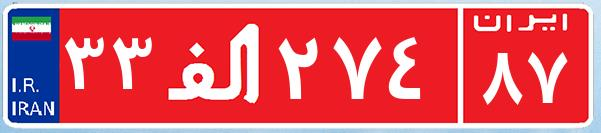2: (273, 28, 330, 110)
3: (57, 26, 110, 107), (110, 28, 158, 105)
4: (385, 28, 445, 110)
7: (330, 28, 385, 110), (525, 38, 570, 115)
8: (475, 38, 525, 113)
الف: (158, 15, 273, 115)
